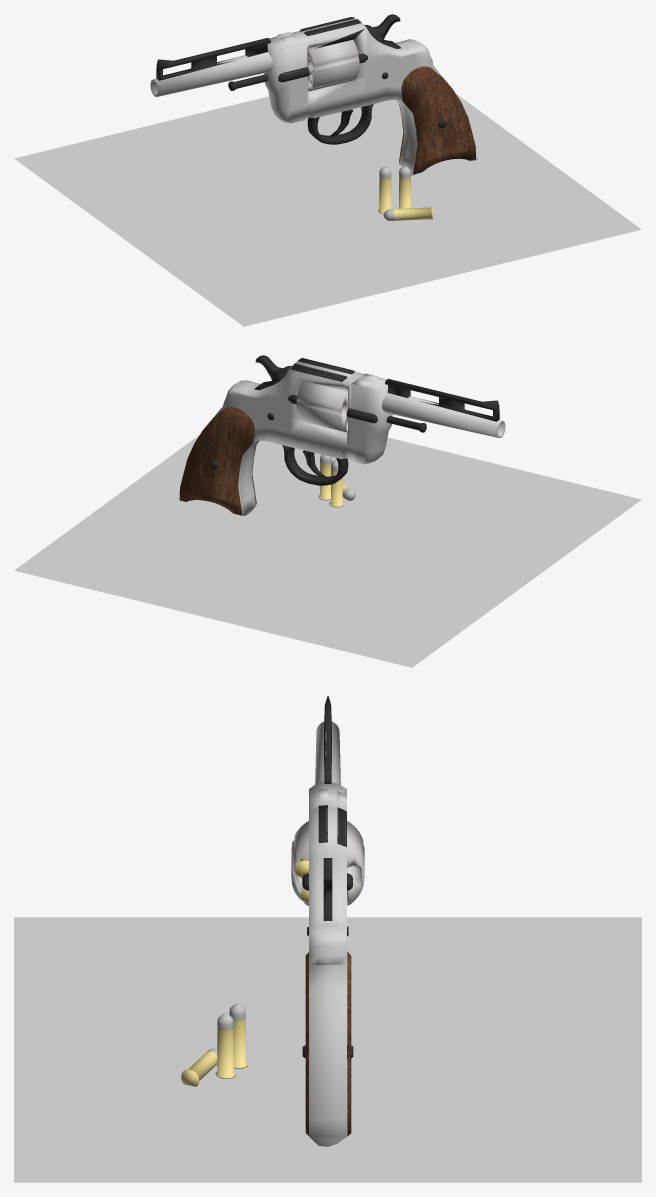
The model's file is Revolver.fbx.
The picture shows the model from 3 angles, top to bottom: view 1: azimuth 30°, elevation 25°; view 2: azimuth 150°, elevation 25°; view 3: azimuth 270°, elevation 25°; orthographic projection. The views are drawn at different scales.
Visible parts, largest first — view 1: Plane, Gun, Gun_01, Gun_01.005, Gun_01.003, Gun_01.004; view 2: Plane, Gun, Gun_01; view 3: Plane, Gun, Gun_01, Gun_01.004, Gun_01.003, Gun_01.005.
Part boxes in pixels (x1,y1,x2,y2): Plane: [14, 94, 641, 326]; Gun: [150, 14, 477, 175]; Gun_01: [308, 39, 359, 91]; Gun_01.005: [383, 206, 432, 220]; Gun_01.003: [378, 166, 391, 214]; Gun_01.004: [398, 166, 410, 208]; Plane: [14, 435, 641, 667]; Gun: [179, 355, 505, 515]; Gun_01: [296, 380, 347, 432]; Plane: [14, 917, 641, 1182]; Gun: [302, 696, 353, 1146]; Gun_01: [291, 821, 364, 905]; Gun_01.004: [215, 1013, 235, 1078]; Gun_01.003: [229, 1003, 247, 1068]; Gun_01.005: [181, 1048, 217, 1086].
Size of the model in its own units: 47.76 by 20.37 by 47.76.
3 materials, 3 textured.
